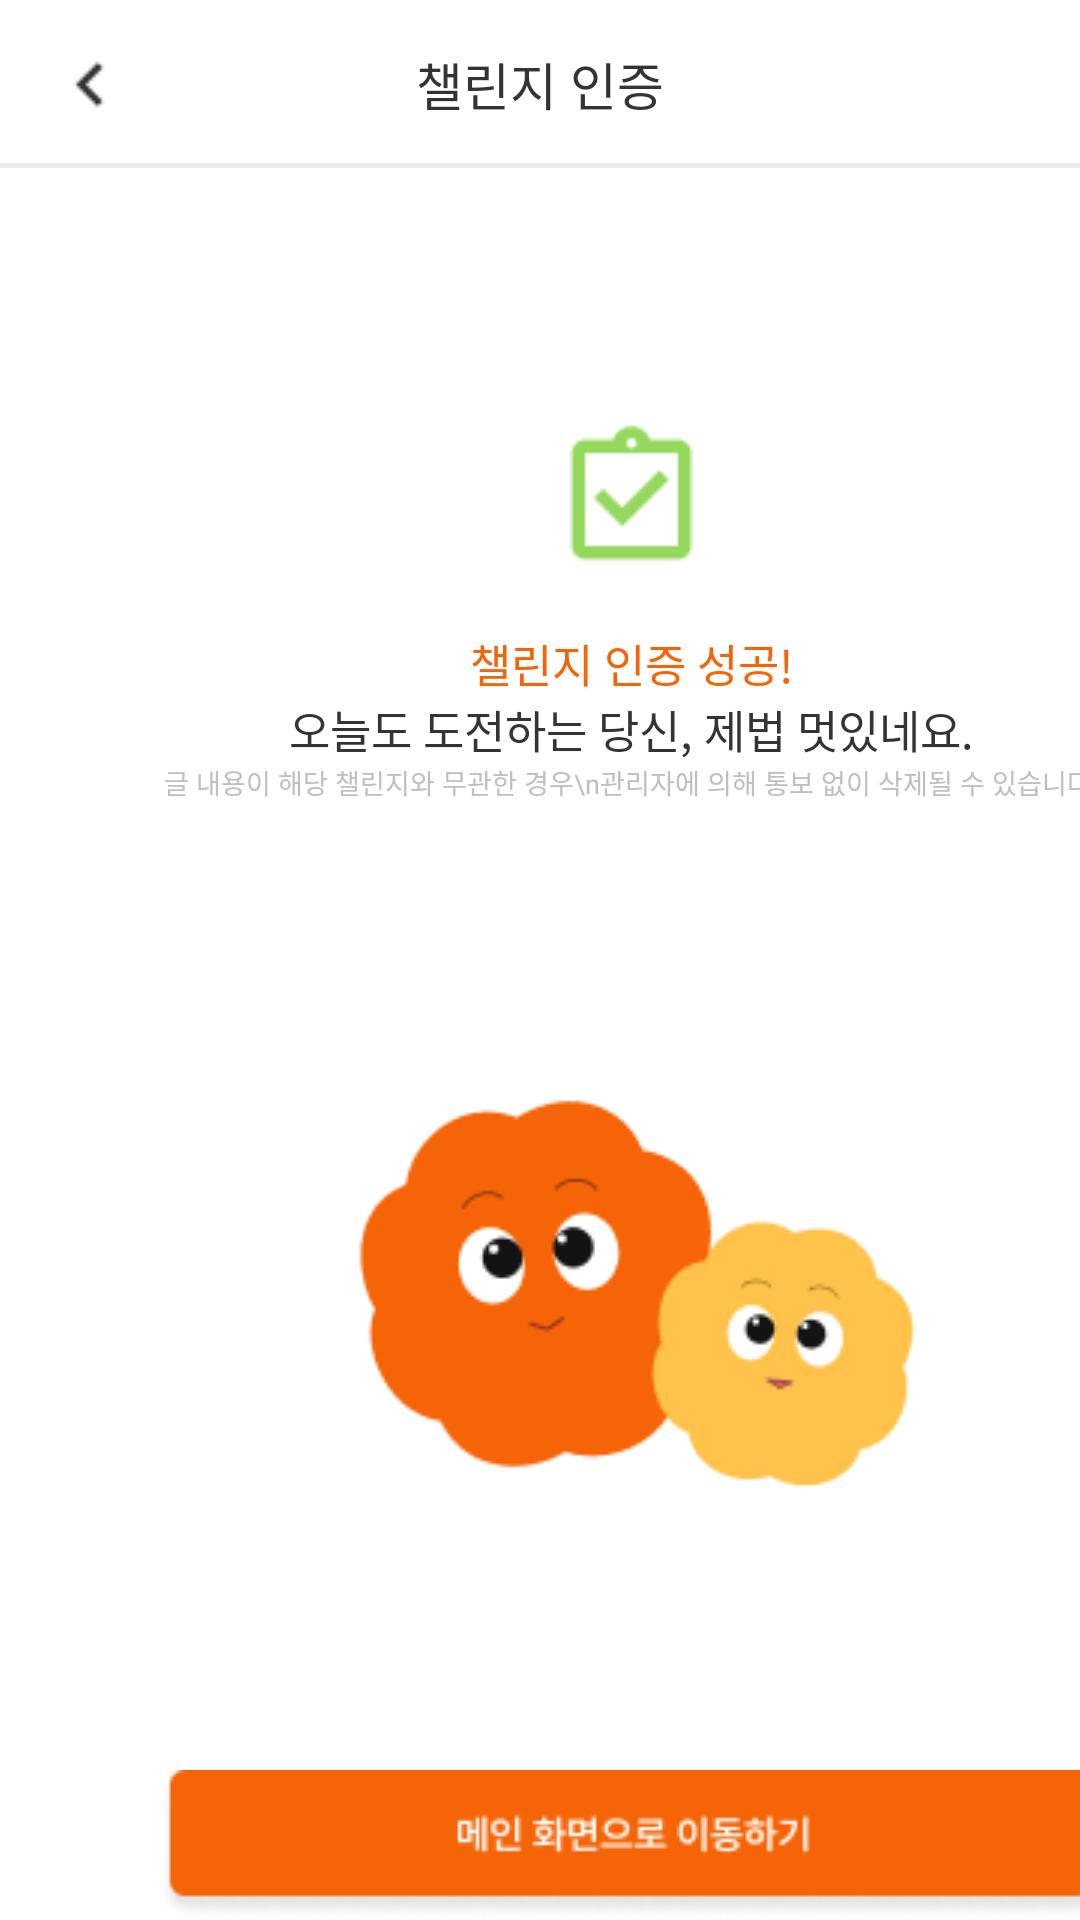

Locate icon controls on the screen. Image size 1080 x 1920, boxes as (x1, y1, x2, y2).
back: (75, 61, 104, 108)
check signup: (570, 425, 693, 561)
